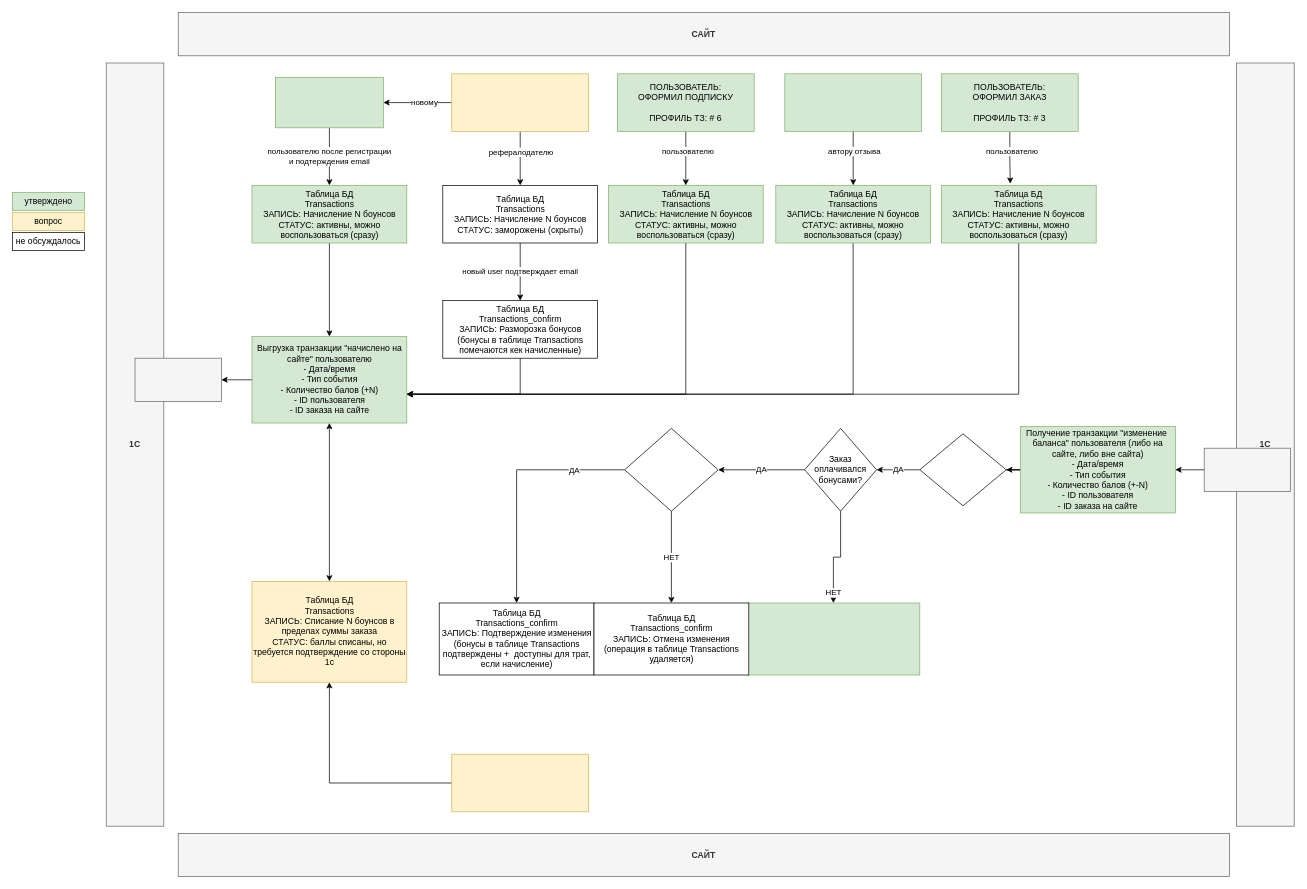
This 1307x889 diagram has some shape labels left out. Each missing label, with the box of its shape:
Есть ID закаа на сайте?: (919, 433, 1006, 506)
Заказ исполнен/отгружен?: (624, 428, 718, 511)
ИМПОРТ 1С -> САЙТ: (1203, 447, 1291, 491)
ПОЛЬЗОВАТЕЛЬ: Зарегестрировался ПРОФИЛЬ ТЗ: # 1: (275, 77, 383, 128)
ПОЛЬЗОВАТЕЛЬ: ОСТАВИЛ ОТЗЫВ ПРОФИЛЬ ТЗ: # 6: (784, 73, 922, 131)
ПОЛЬЗОВАТЕЛЬ: ОФОРМИЛ ЗАКАЗ ПРОФИЛЬ ТЗ: # 11: (451, 753, 589, 812)
ПОЛЬЗОВАТЕЛЬ: РЕГИСТРАЦИЯ ПО РЕФЕРАЛЬНОЙ ССЫЛКЕ ПРОФИЛЬ ТЗ: (нет): (451, 73, 589, 131)
Таблица БД Transactions ЗАПИСЬ: +- N боунсов СТАТУС: баллы списаны/зачислены: (746, 602, 920, 675)
ЭКСПОРТ 1С <- САЙТ: (134, 357, 221, 401)
